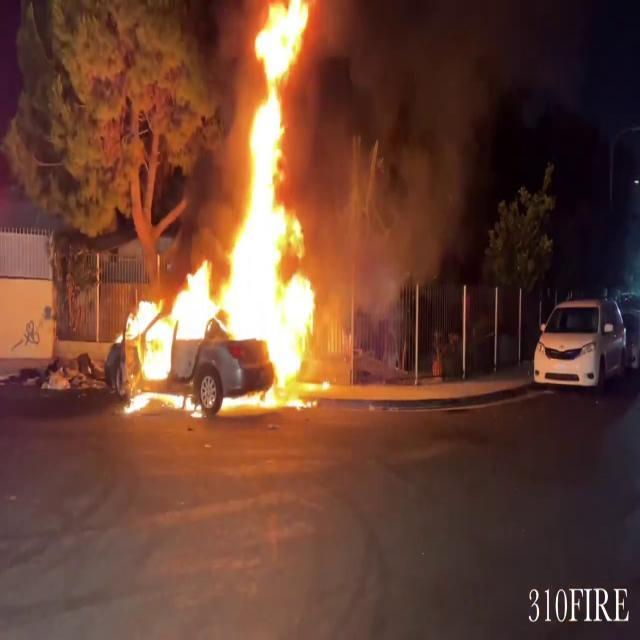Fire: (119, 0, 331, 415)
Smoke: (311, 0, 500, 308)
